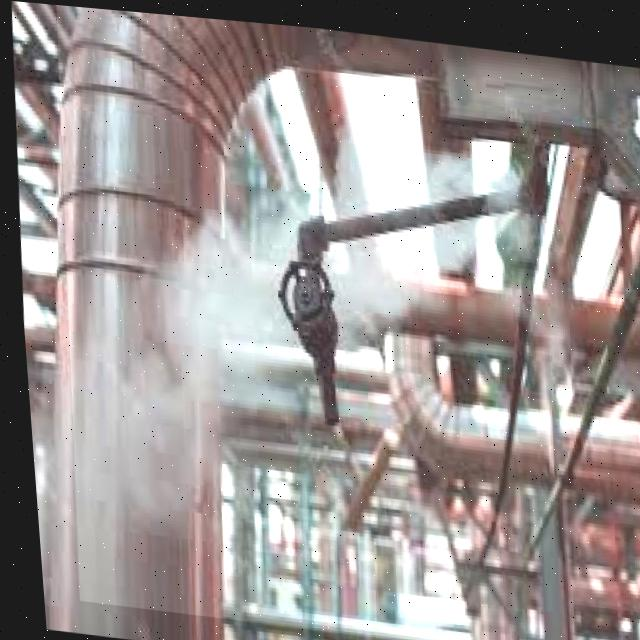corrosion: (233, 174, 502, 467)
